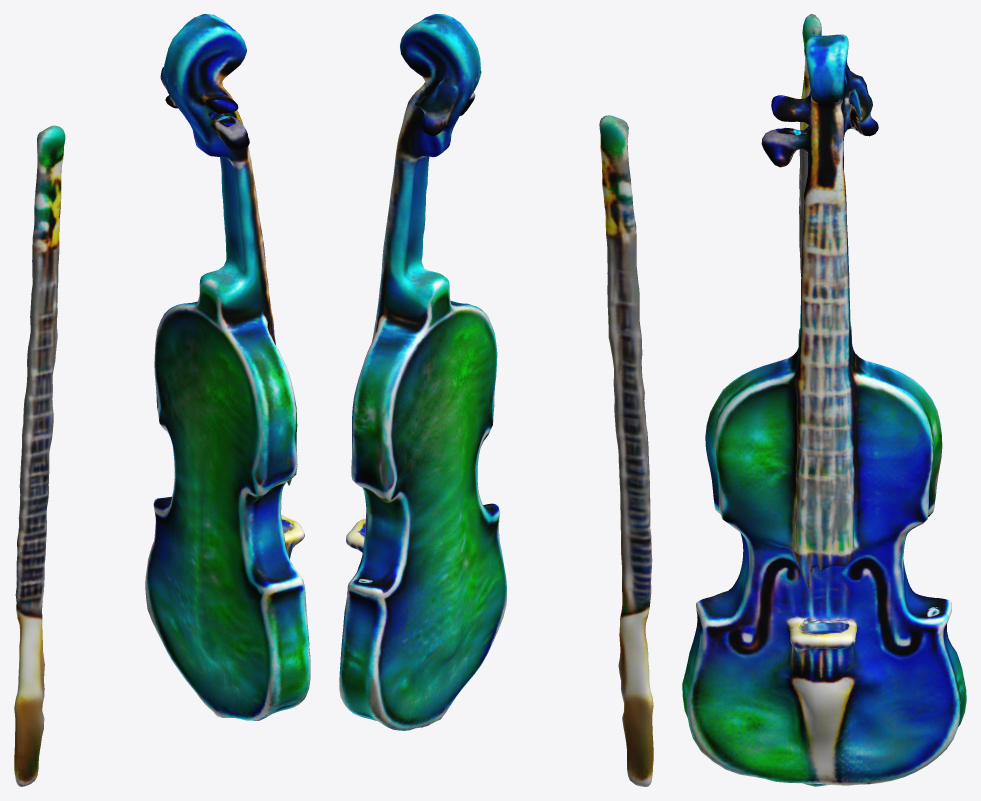
Rendered from 3D-violin.glb.
3 views of the same model, side by side, from view 1: azimuth 30°, elevation 25°; view 2: azimuth 150°, elevation 25°; view 3: azimuth 270°, elevation 25° (orthographic). The views are drawn at different scales.
Parts seen in each view (by area): view 1: mesh; view 2: mesh; view 3: mesh.
Part boxes in pixels (x1,y1,x2,y2): mesh: (14, 14, 310, 786); mesh: (339, 14, 653, 786); mesh: (682, 14, 966, 786).
Size of the model in its own units: 0.4204 by 0.9976 by 0.3346.
Materials: 1 (1 with a texture image).
